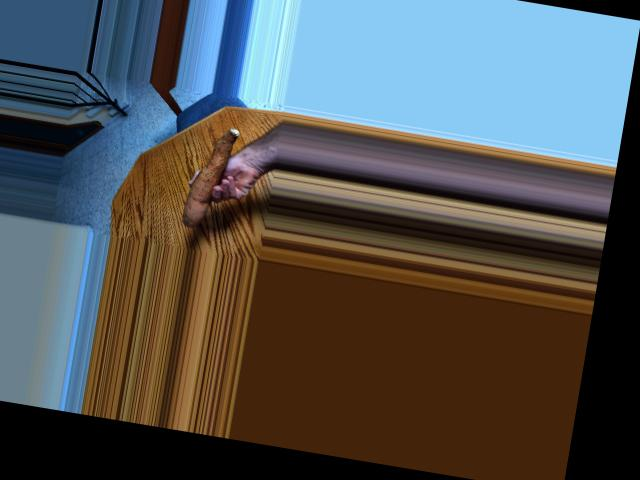sweet_potato: (176, 122, 249, 229)
